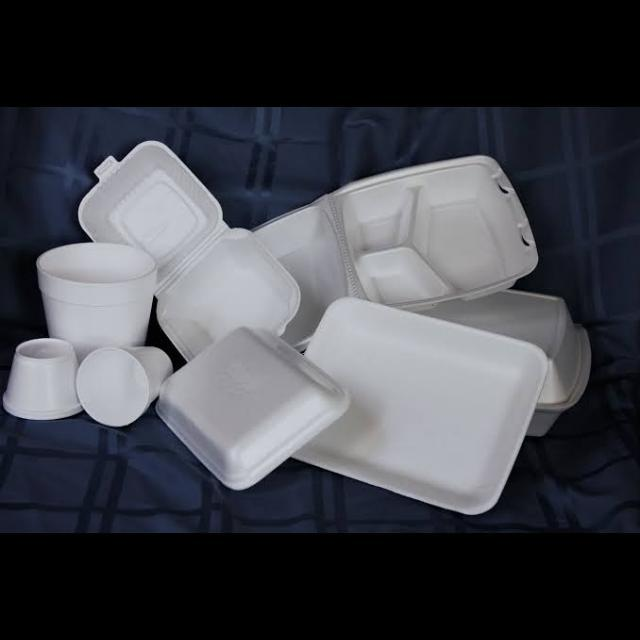styrofoam: (252, 155, 540, 355), (291, 299, 550, 518), (77, 141, 301, 363), (154, 328, 353, 493), (401, 290, 592, 438), (36, 243, 159, 361), (76, 347, 174, 429), (2, 338, 82, 421)
